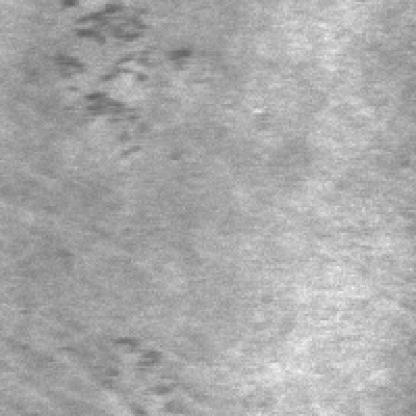rolled-in_scale: (43, 3, 193, 172), (79, 335, 175, 416)
